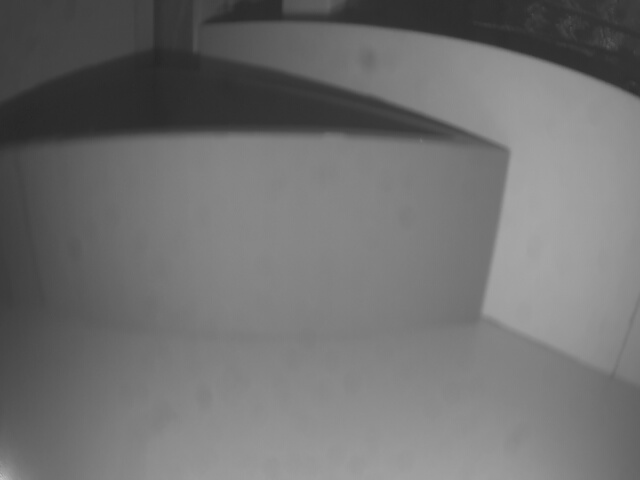Point: (0, 152, 506, 321)
